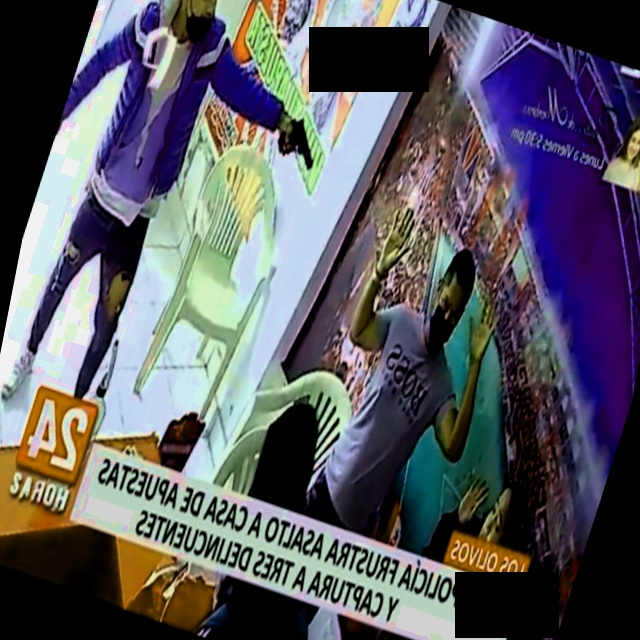gun: (259, 84, 349, 204)
